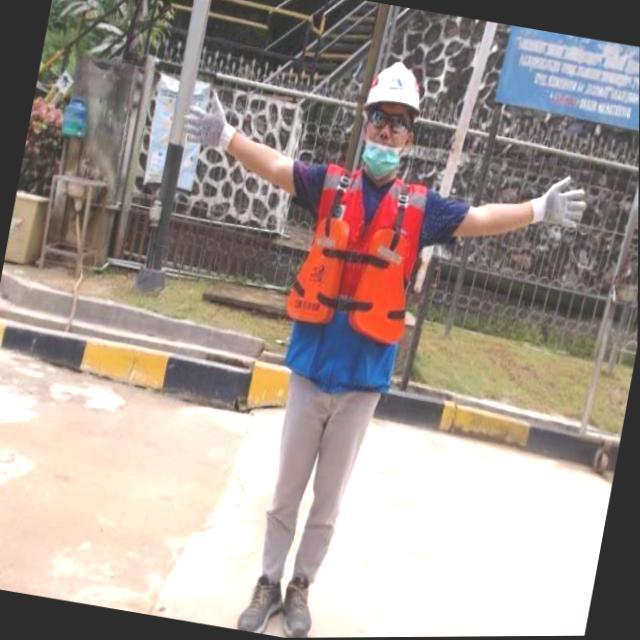goggles_on: (365, 106, 414, 136)
